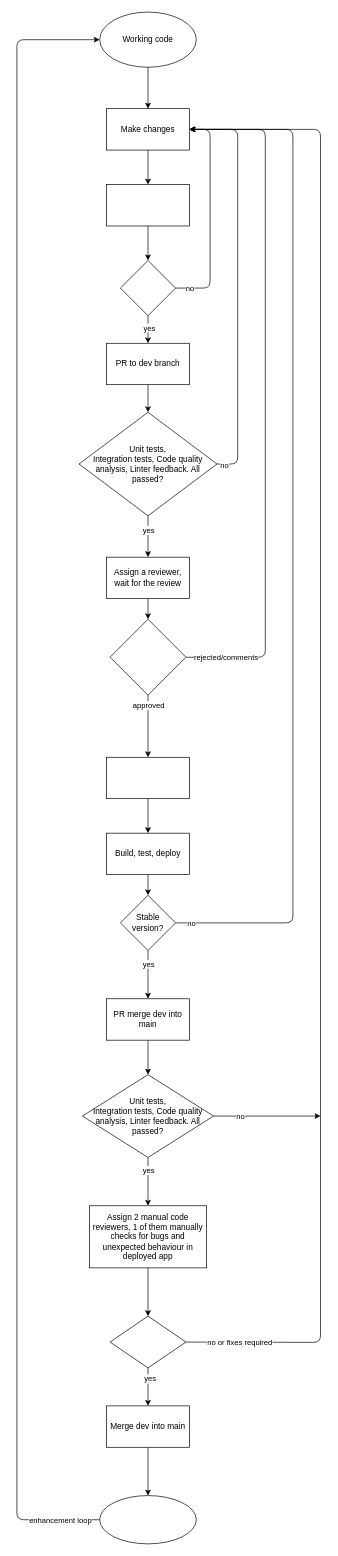
The diagram is 338 pixels wide and 1556 high, and some of its shapes have lost their labels. The box of each missing label's shape, as (x1, y1, x2, y2) in pixels:
2x Approved?: (109, 1315, 186, 1368)
Approved by at least 1 person?: (109, 619, 186, 695)
Commit to feature branch: (106, 184, 189, 226)
Merge into dev, assign tags, address GH Issues: (106, 757, 189, 799)
Test locally, passed?: (120, 260, 176, 316)
Working app: (99, 1495, 196, 1544)
